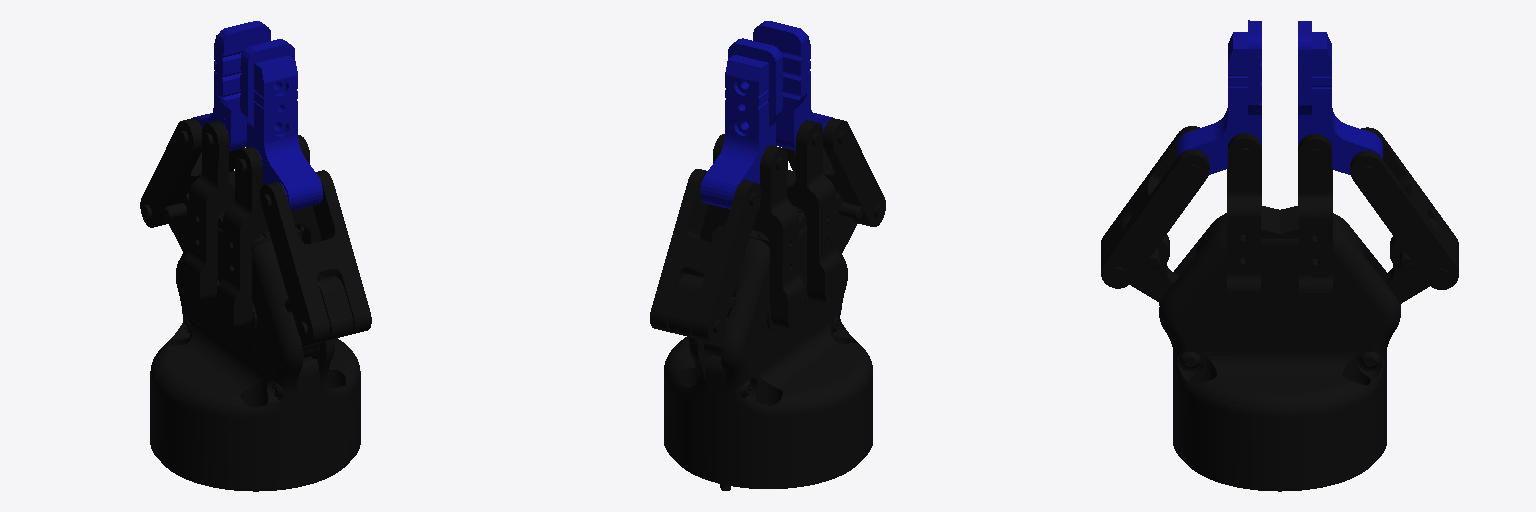
The robot description file, URDF, robot "robotiq_85":
<?xml version="1.0" ?>
<robot name="robotiq_85">
    <link name="finger_left_link_0" />
    <link name="finger_left_link_1">
        <visual>
            <origin rpy="0 0 0" xyz="0 0 0.0" />
            <geometry>
                <mesh filename="meshes/robotiq/visual/robotiq85_proximal.STL" />
            </geometry>
            <material name="black" />
        </visual>
        <collision>
            <origin rpy="0 0 0" xyz="0 0 0.0" />
            <geometry>
                <mesh filename="meshes/robotiq/visual/robotiq85_proximal.STL" />
            </geometry>
        </collision>
    </link>
    <link name="finger_left_link_2">
        <visual>
            <origin rpy="0 0 0" xyz="0 0 0.0" />
            <geometry>
                <mesh filename="meshes/robotiq/visual/robotiq85_distal.STL" />
            </geometry>
            <material name="blue">
                <color rgba="0.1 0.1 0.6 1" />
            </material>
        </visual>
        <collision>
            <origin rpy="0 0 0" xyz="0 0 0.0" />
            <geometry>
                <mesh filename="meshes/robotiq/visual/robotiq85_distal.STL" />
            </geometry>
        </collision>
    </link>
    <link name="finger_left_link_3">
        <visual>
            <origin rpy="0 0 0" xyz="0 0 0.0" />
            <geometry>
                <mesh filename="meshes/robotiq/visual/robotiq85_elbow.STL" />
            </geometry>
            <material name="black" />
        </visual>
        <collision>
            <origin rpy="0 0 0" xyz="0 0 0.0" />
            <geometry>
                <mesh filename="meshes/robotiq/visual/robotiq85_elbow.STL" />
            </geometry>
        </collision>
    </link>
    <joint name="finger_left_joint_1" type="revolute">
        <parent link="finger_left_link_0" />
        <child link="finger_left_link_1" />
        <axis xyz="1 0 0" />
        <origin rpy="0 0 0" xyz="0 0 0" />
        <mimic joint="joint_0" multiplier="1" offset="0" />
        <limit effort="100" lower="-6" upper="6" velocity="100" />
    </joint>
    <joint name="finger_left_joint_2" type="revolute">
        <parent link="finger_left_link_1" />
        <child link="finger_left_link_2" />
        <axis xyz="1 0 0" />
        <origin rpy="0 0 0" xyz="0 0.001 0.059" />
        <mimic joint="joint_0" multiplier="-1" offset="0" />
        <limit effort="100" lower="-6" upper="6" velocity="100" />
    </joint>
    <joint name="finger_left_joint_3" type="revolute">
        <parent link="finger_left_link_0" />
        <child link="finger_left_link_3" />
        <axis xyz="1 0 0" />
        <origin rpy="0 0 0" xyz="0 -0.017 -0.005" />
        <mimic joint="joint_0" multiplier="1" offset="0" />
        <limit effort="100" lower="-6" upper="6" velocity="100" />
    </joint>
    <link name="finger_right_link_0" />
    <link name="finger_right_link_1">
        <visual>
            <origin rpy="0 0 0" xyz="0 0 0.0" />
            <geometry>
                <mesh filename="meshes/robotiq/visual/robotiq85_proximal.STL" />
            </geometry>
            <material name="black" />
        </visual>
        <collision>
            <origin rpy="0 0 0" xyz="0 0 0.0" />
            <geometry>
                <mesh filename="meshes/robotiq/visual/robotiq85_proximal.STL" />
            </geometry>
        </collision>
    </link>
    <link name="finger_right_link_2">
        <visual>
            <origin rpy="0 0 0" xyz="0 0 0.0" />
            <geometry>
                <mesh filename="meshes/robotiq/visual/robotiq85_distal.STL" />
            </geometry>
            <material name="blue">
                <color rgba="0.1 0.1 0.6 1" />
            </material>
        </visual>
        <collision>
            <origin rpy="0 0 0" xyz="0 0 0.0" />
            <geometry>
                <mesh filename="meshes/robotiq/visual/robotiq85_distal.STL" />
            </geometry>
        </collision>
    </link>
    <link name="finger_right_link_3">
        <visual>
            <origin rpy="0 0 0" xyz="0 0 0.0" />
            <geometry>
                <mesh filename="meshes/robotiq/visual/robotiq85_elbow.STL" />
            </geometry>
            <material name="black" />
        </visual>
        <collision>
            <origin rpy="0 0 0" xyz="0 0 0.0" />
            <geometry>
                <mesh filename="meshes/robotiq/visual/robotiq85_elbow.STL" />
            </geometry>
        </collision>
    </link>
    <joint name="finger_right_joint_1" type="revolute">
        <parent link="finger_right_link_0" />
        <child link="finger_right_link_1" />
        <axis xyz="1 0 0" />
        <origin rpy="0 0 0" xyz="0 0 0" />
        <mimic joint="joint_0" multiplier="1" offset="0" />
        <limit effort="100" lower="-6" upper="6" velocity="100" />
    </joint>
    <joint name="finger_right_joint_2" type="revolute">
        <parent link="finger_right_link_1" />
        <child link="finger_right_link_2" />
        <axis xyz="1 0 0" />
        <origin rpy="0 0 0" xyz="0 0.001 0.059" />
        <mimic joint="joint_0" multiplier="-1" offset="0" />
        <limit effort="100" lower="-6" upper="6" velocity="100" />
    </joint>
    <joint name="finger_right_joint_3" type="revolute">
        <parent link="finger_right_link_0" />
        <child link="finger_right_link_3" />
        <axis xyz="1 0 0" />
        <origin rpy="0 0 0" xyz="0 -0.017 -0.005" />
        <mimic joint="joint_0" multiplier="1" offset="0" />
        <limit effort="100" lower="-6" upper="6" velocity="100" />
    </joint>
    <link name="palm">
        <visual>
            <origin rpy="0 0 0" xyz="0.014 0 0" />
            <geometry>
                <mesh filename="meshes/robotiq/visual/robotiq85_base.STL" />
            </geometry>
            <material name="black">
                <color rgba="0.1 0.1 0.1 1" />
            </material>
        </visual>
        <collision>
            <origin rpy="0 0 0" xyz="0.014 0 0" />
            <geometry>
                <mesh filename="meshes/robotiq/visual/robotiq85_base.STL" />
            </geometry>
            <material name="yellow">
                <color rgba="0 1 1 1" />
            </material>
        </collision>
    </link>
    <link name="servo" />
    <joint name="palm_finger_left_joint" type="fixed">
        <parent link="palm" />
        <child link="finger_left_link_0" />
        <axis xyz="1 0 0" />
        <origin rpy="0 0 0" xyz="0 -0.013 0.061" />
        <limit effort="100" lower="0" upper="1.5708" velocity="100" />
    </joint>
    <joint name="palm_finger_right_joint" type="fixed">
        <parent link="palm" />
        <child link="finger_right_link_0" />
        <axis xyz="1 0 0" />
        <limit effort="100" lower="0" upper="1.5708" velocity="100" />
        <origin rpy="0 0 3.1416" xyz="0 0.013 0.061" />
    </joint>
    <joint name="joint_0" type="revolute">
        <parent link="palm" />
        <child link="servo" />
        <axis xyz="1 0 0" />
        <origin rpy="0 0 0" xyz="0 0 0" />
        <limit effort="100" lower="-0.11135" upper="0.72739" velocity="100" />
    </joint>
</robot>

--- What the picture shows (computed from the rendered views, not written in the file) ---
Views: 3 orthographic renders of the robot side by side, from view 1: azimuth 30°, elevation 25°; view 2: azimuth 150°, elevation 25°; view 3: azimuth 270°, elevation 25°.
Robot: robotiq_85 — 10 links, 9 joints (7 revolute, 2 fixed); root link palm; default pose: every joint at zero.
Visible links, largest first — view 1: palm, finger_left_link_3, finger_left_link_2, finger_left_link_1, finger_right_link_1, finger_right_link_3, finger_right_link_2; view 2: palm, finger_right_link_3, finger_right_link_2, finger_right_link_1, finger_left_link_1, finger_left_link_3, finger_left_link_2; view 3: palm, finger_left_link_3, finger_right_link_3, finger_left_link_1, finger_right_link_1, finger_right_link_2, finger_left_link_2.
Boxes of the visible links, x1=… form: palm: x1=150, y1=208, x2=360, y2=491; finger_left_link_3: x1=260, y1=170, x2=371, y2=357; finger_left_link_2: x1=240, y1=39, x2=322, y2=210; finger_left_link_1: x1=217, y1=135, x2=324, y2=331; finger_right_link_1: x1=183, y1=121, x2=234, y2=305; finger_right_link_3: x1=140, y1=118, x2=244, y2=251; finger_right_link_2: x1=193, y1=21, x2=270, y2=150; palm: x1=664, y1=206, x2=872, y2=490; finger_right_link_3: x1=650, y1=169, x2=760, y2=356; finger_right_link_2: x1=700, y1=38, x2=782, y2=208; finger_right_link_1: x1=696, y1=134, x2=804, y2=329; finger_left_link_1: x1=787, y1=120, x2=841, y2=303; finger_left_link_3: x1=782, y1=118, x2=885, y2=252; finger_left_link_2: x1=753, y1=21, x2=832, y2=150; palm: x1=1159, y1=205, x2=1400, y2=491; finger_left_link_3: x1=1101, y1=126, x2=1209, y2=302; finger_right_link_3: x1=1350, y1=127, x2=1458, y2=303; finger_left_link_1: x1=1226, y1=133, x2=1261, y2=326; finger_right_link_1: x1=1298, y1=134, x2=1333, y2=326; finger_right_link_2: x1=1298, y1=21, x2=1382, y2=174; finger_left_link_2: x1=1177, y1=20, x2=1261, y2=174.
Bounding box of the posed robot: 0.075 × 0.1254 × 0.1667 m (x, y, z).
7 mesh visuals loaded from 4 distinct referenced files (4 binary STL).